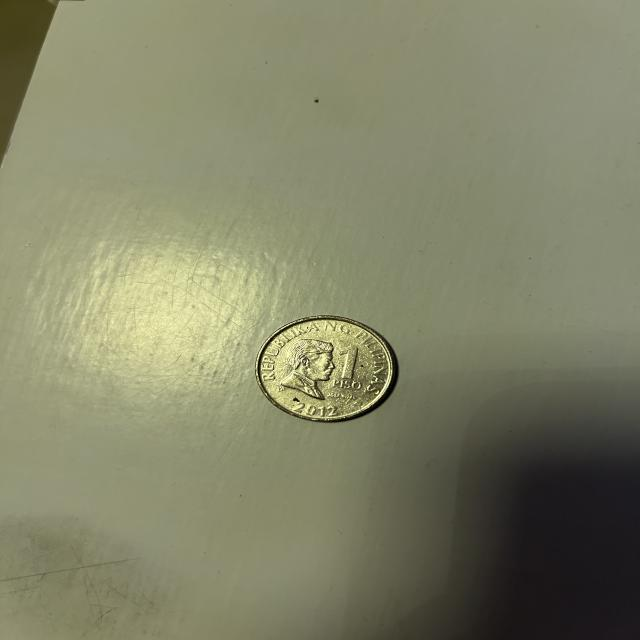1_Old_Front: (331, 344, 366, 392)
